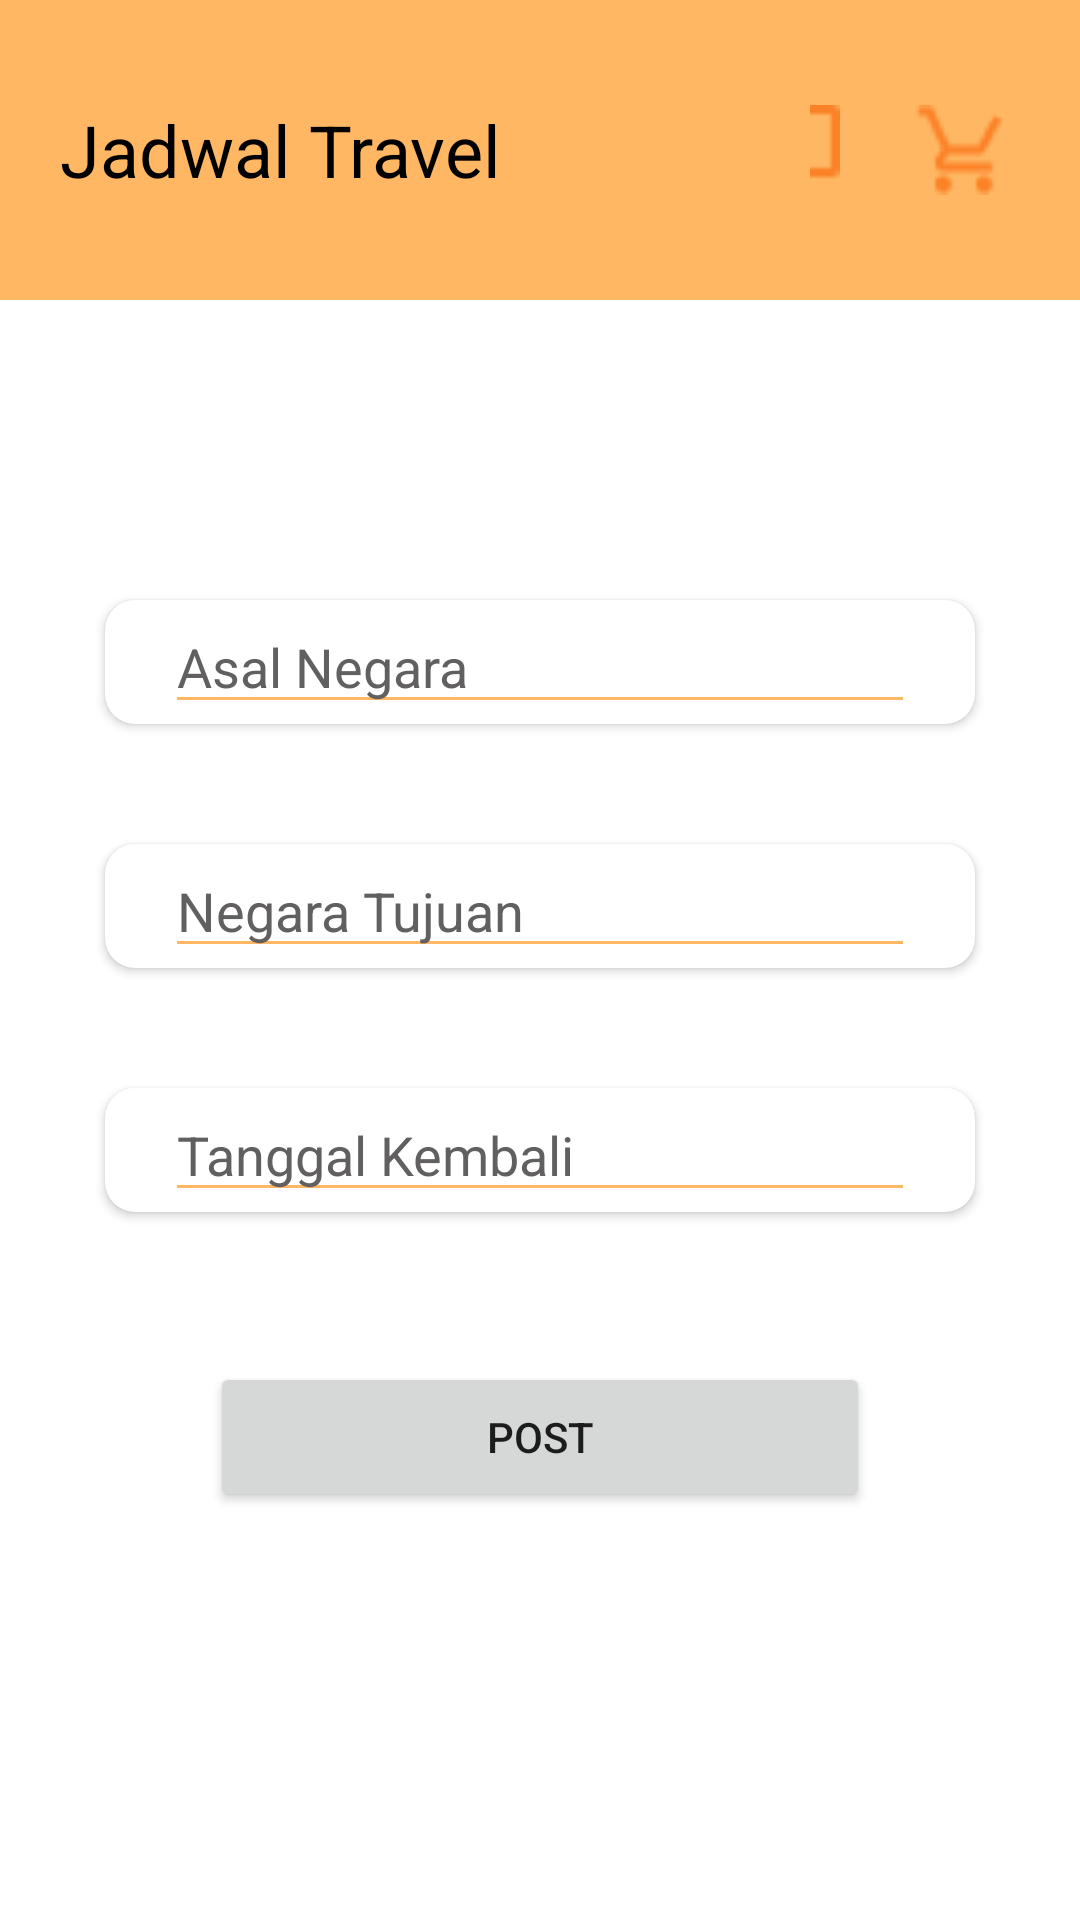

Icon click points for this 1080w x 1920h phone screenshot, format point (x, y):
cart: point (959, 150)
